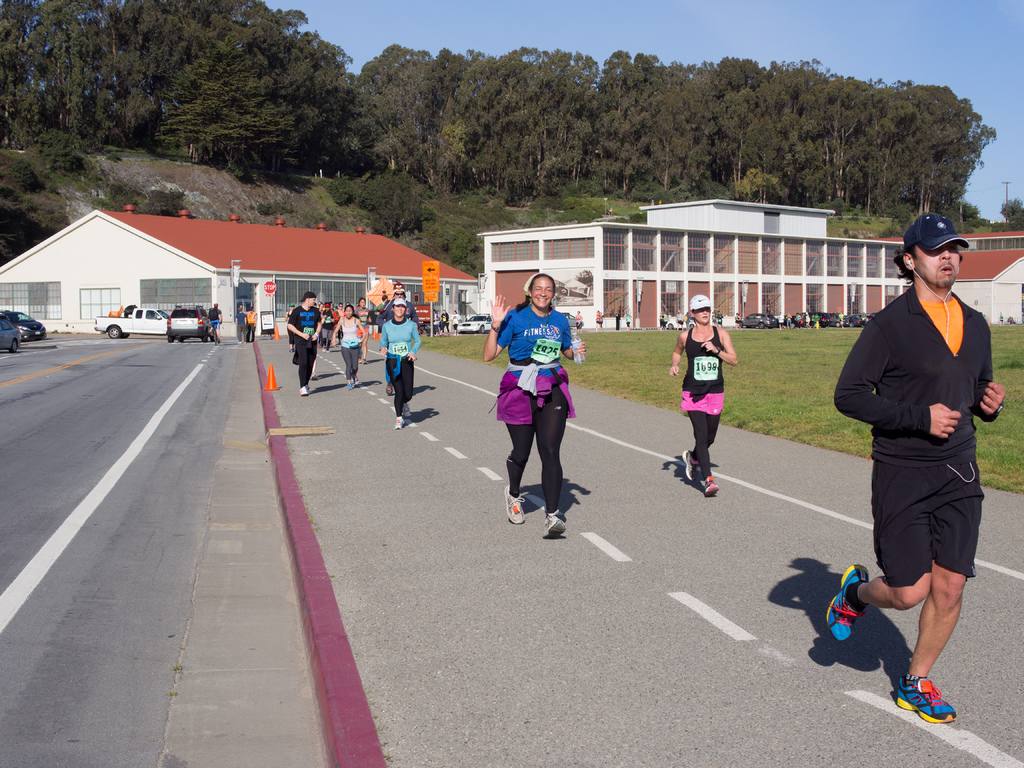Footwear: (826, 563, 871, 640), (895, 676, 956, 724), (504, 485, 529, 526), (545, 511, 568, 537), (681, 447, 698, 481), (699, 476, 719, 495), (347, 377, 362, 392), (393, 417, 409, 430), (298, 384, 311, 397), (402, 403, 412, 417)
